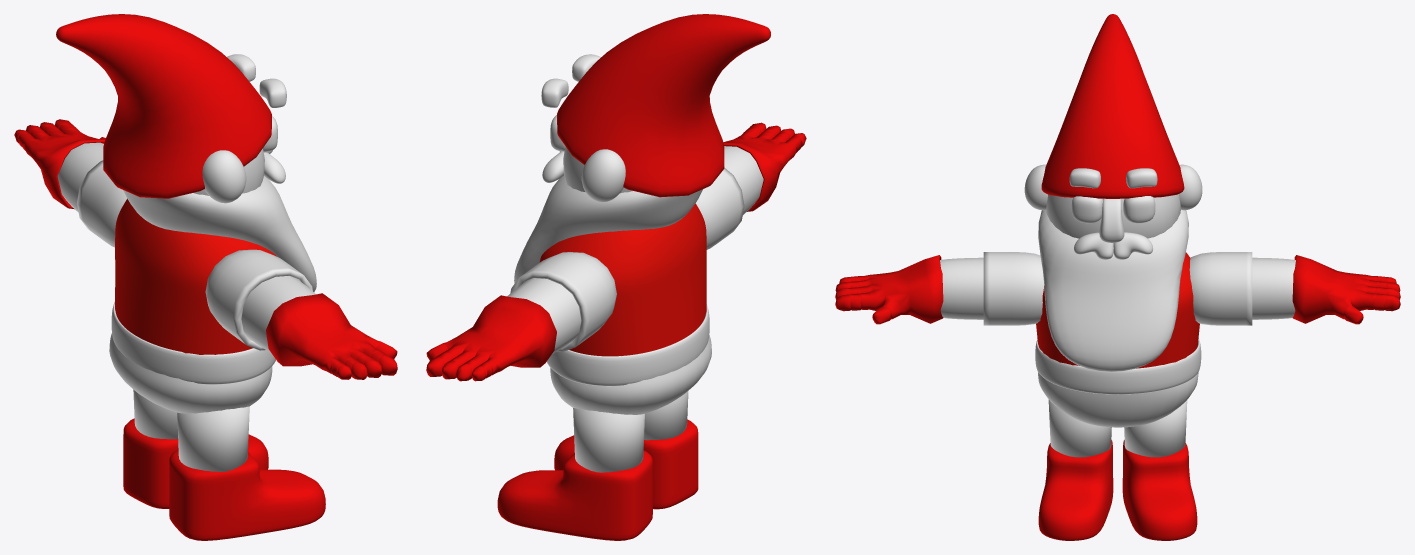
File: Gnome deneme.fbx
The picture shows the model from 3 angles, left to right: view 1: azimuth 30°, elevation 25°; view 2: azimuth 150°, elevation 25°; view 3: azimuth 270°, elevation 25°; orthographic projection. The views are drawn at different scales.
Parts seen in each view (by area): view 1: Cube.021, Cube.022, Cube.008, cartoon_hand, Cube.007, Cube.020, Cylinder, Circle, Cube.018, Cube.019, Cube.002, Cube.005 (+2 smaller); view 2: Cube.021, Cube.008, Cube.022, cartoon_hand, Cube.007, Cube.020, Cylinder, Circle, Cube.018, Cube.019, Cube.002, Cube.005 (+2 smaller); view 3: Cube.007, Cube.021, Cube.022, cartoon_hand, Cube.020, Cube.019, Cylinder, Cube.018, Circle, Cube.008, Cube.001, Cube.002 (+4 smaller).
Part boxes in pixels (bbox=[...]): Cube.021: bbox=[56, 14, 271, 198]; Cube.022: bbox=[123, 418, 325, 540]; Cube.008: bbox=[115, 198, 276, 354]; cartoon_hand: bbox=[14, 119, 397, 379]; Cube.007: bbox=[123, 176, 316, 291]; Cube.020: bbox=[77, 160, 312, 350]; Cylinder: bbox=[133, 389, 249, 471]; Circle: bbox=[111, 302, 275, 384]; Cube.018: bbox=[109, 333, 272, 413]; Cube.019: bbox=[57, 142, 315, 352]; Cube.002: bbox=[202, 150, 246, 203]; Cube.005: bbox=[227, 54, 286, 107]; Cube.021: bbox=[557, 14, 770, 197]; Cube.008: bbox=[539, 203, 706, 356]; Cube.022: bbox=[497, 419, 698, 540]; cartoon_hand: bbox=[426, 122, 806, 381]; Cube.007: bbox=[514, 175, 702, 283]; Cube.020: bbox=[510, 167, 744, 351]; Cylinder: bbox=[573, 391, 688, 472]; Circle: bbox=[546, 304, 709, 386]; Cube.018: bbox=[550, 335, 711, 414]; Cube.019: bbox=[507, 146, 763, 353]; Cube.002: bbox=[581, 149, 625, 202]; Cube.005: bbox=[541, 54, 600, 107]; Cube.007: bbox=[1038, 210, 1188, 371]; Cube.021: bbox=[1041, 14, 1184, 198]; Cube.022: bbox=[1038, 440, 1197, 540]; cartoon_hand: bbox=[835, 255, 1400, 324]; Cube.020: bbox=[983, 252, 1252, 325]; Cube.019: bbox=[940, 257, 1295, 319]; Cylinder: bbox=[1048, 399, 1187, 457]; Cube.018: bbox=[1038, 372, 1198, 427]; Circle: bbox=[1035, 339, 1201, 394]; Cube.008: bbox=[1036, 252, 1199, 368]; Cube.001: bbox=[1046, 194, 1180, 238]; Cube.002: bbox=[1024, 164, 1202, 210].
Bounding box in the file's own units: 289 × 597 × 702.
